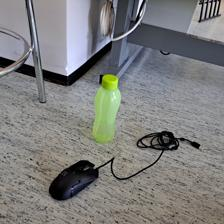bottle: (91, 74, 122, 144)
mouse: (48, 159, 99, 200)
